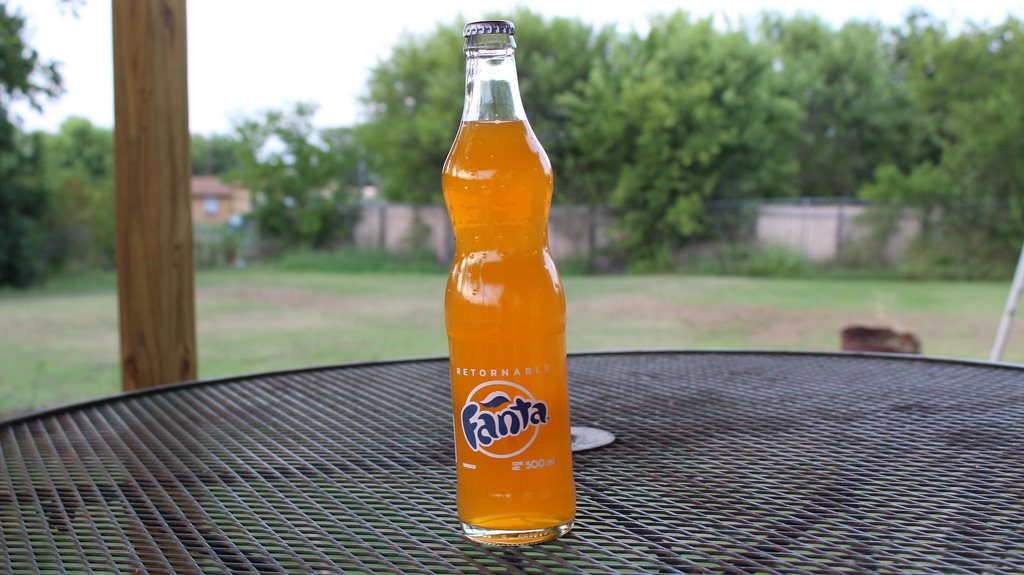fanta: (445, 30, 579, 539)
